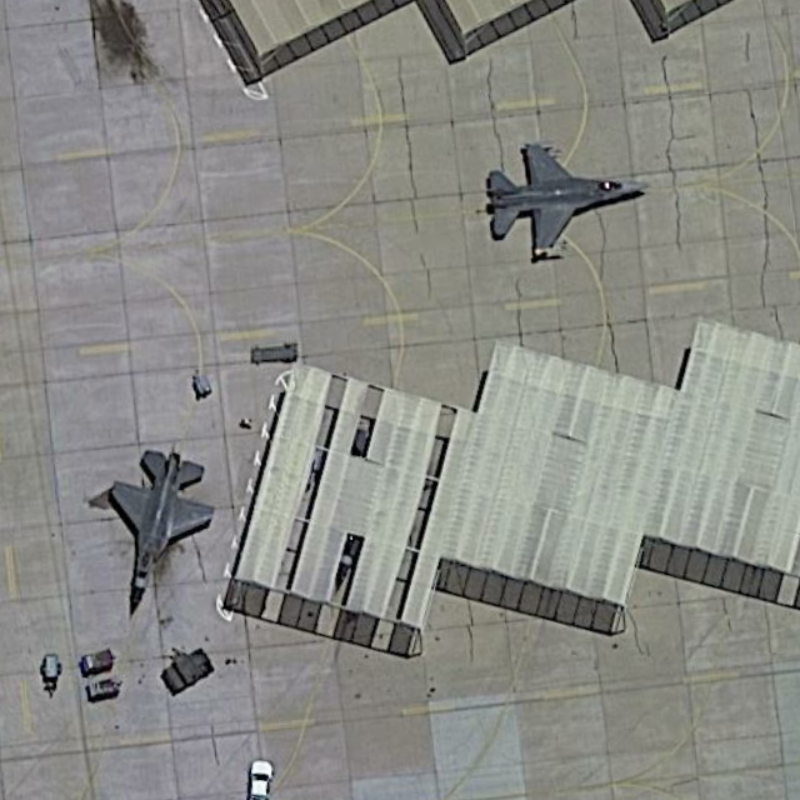A5: (476, 133, 657, 266), (98, 442, 221, 626)
